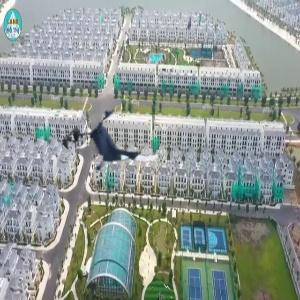drone: (77, 103, 159, 185)
